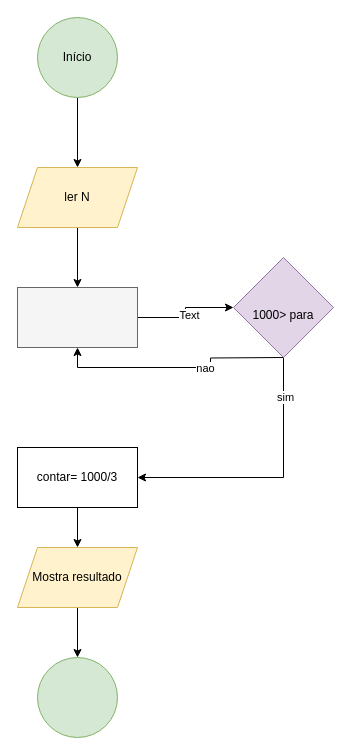
This 351x755 diagram has some shape labels left out. The shapes that lost their labels are listed below. From the top down, each one's centre as x and y in pixels, then its label:
point (77, 317): Soma= 0 Contar= 1000/N
point (77, 697): fim
